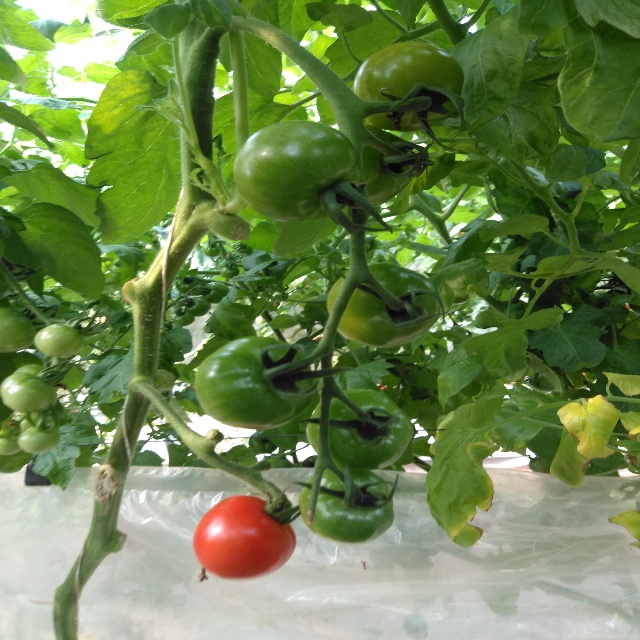l_fully_ripened: (192, 495, 296, 581)
l_green: (233, 120, 361, 221), (195, 337, 313, 430), (354, 41, 464, 133), (327, 261, 439, 349), (306, 388, 413, 471), (298, 465, 394, 547), (362, 124, 418, 208), (1, 372, 57, 413), (33, 323, 85, 358), (0, 306, 37, 353), (18, 425, 60, 455), (12, 364, 59, 386)
